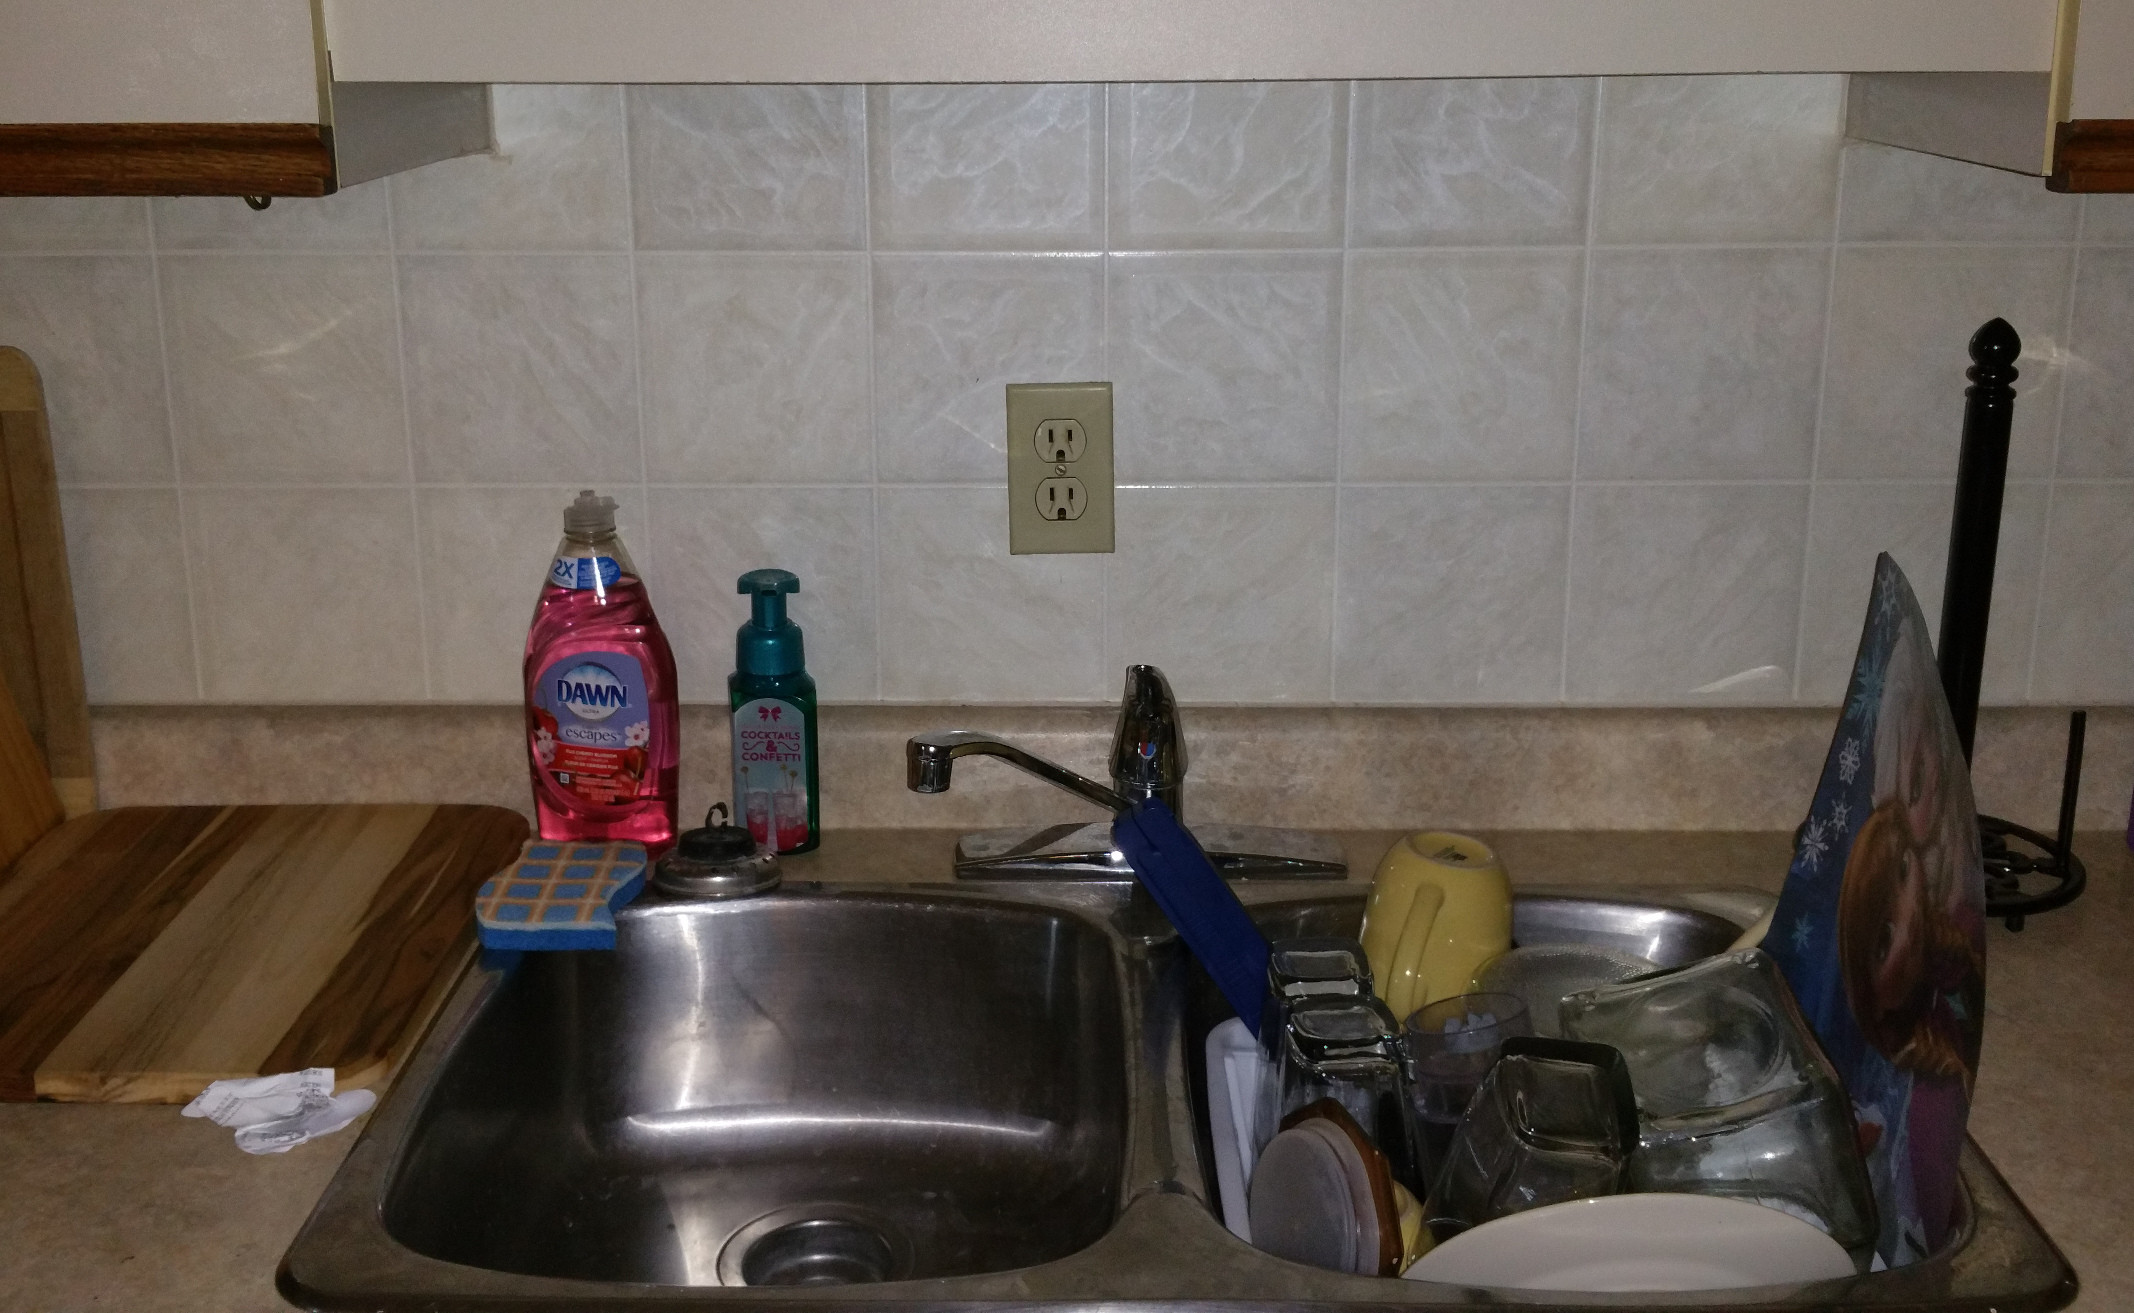outlet: (1044, 483, 1081, 520), (1044, 425, 1079, 461)
